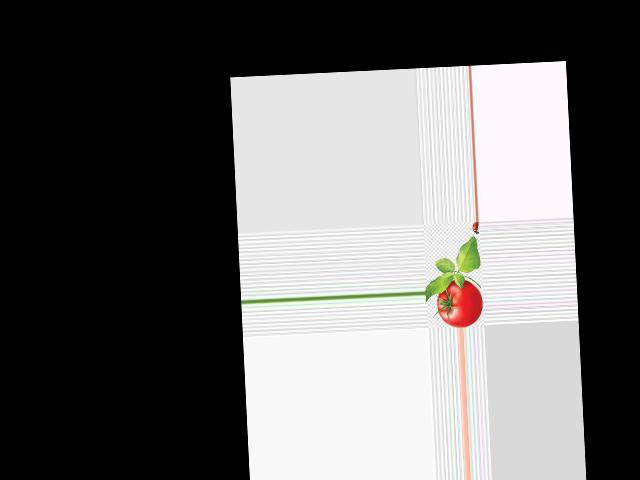tomato: (436, 278, 484, 328)
